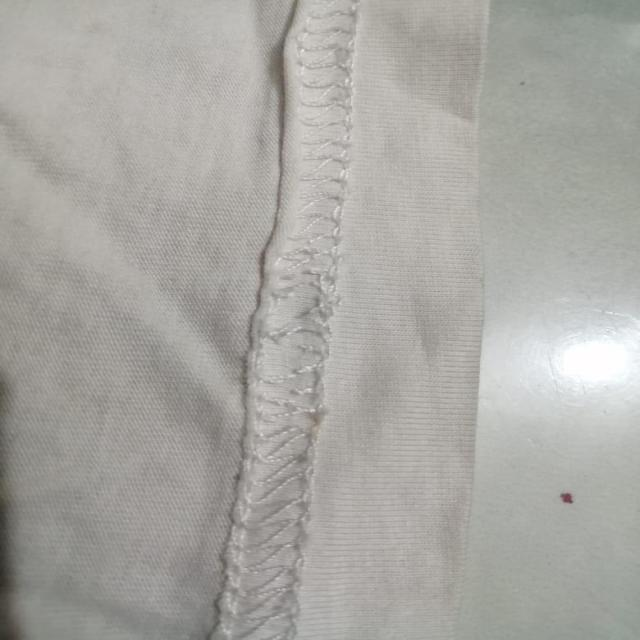gray stitch: (213, 0, 365, 640)
